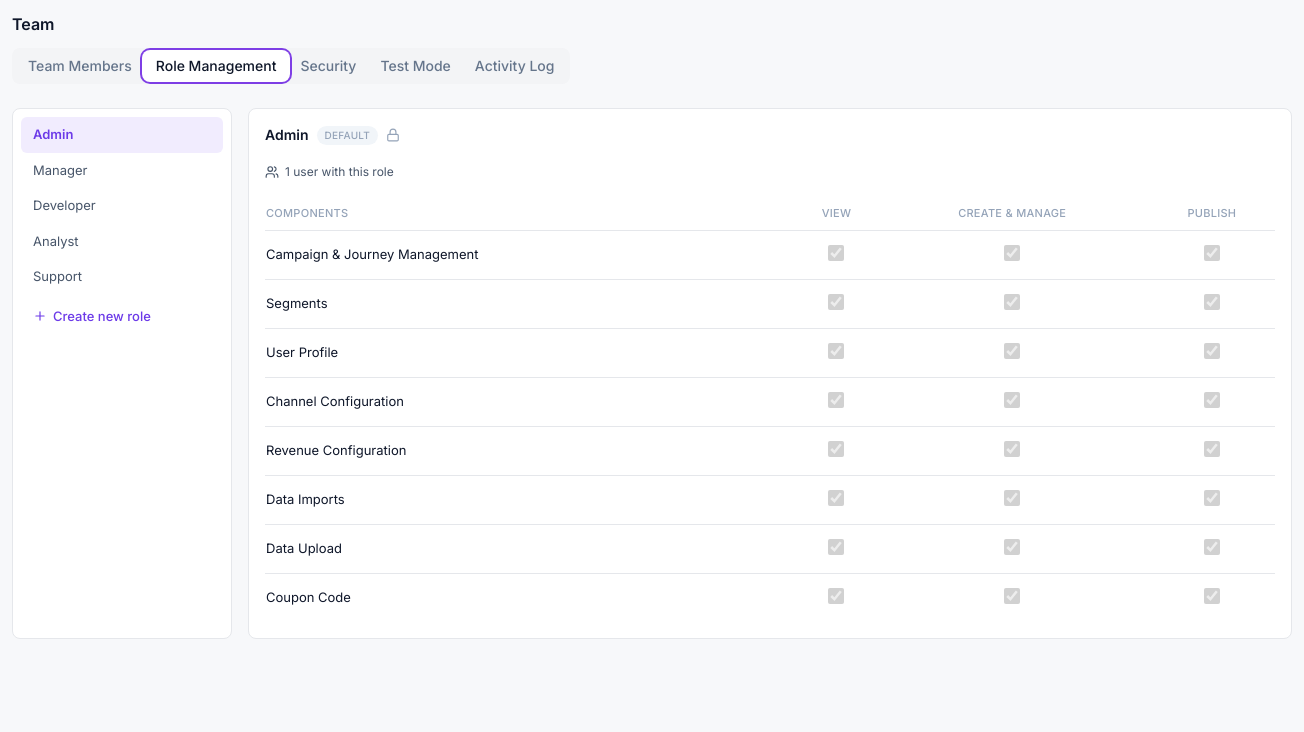
Test: TeamManagementPanel › deleting a custom role reassigns its members to No role
The image size is (1304, 732).
Earlier steps of the test are not shown.
Press the mouse on the tab with test id "team-tab-members" at (80, 66), box [16, 52, 144, 80]
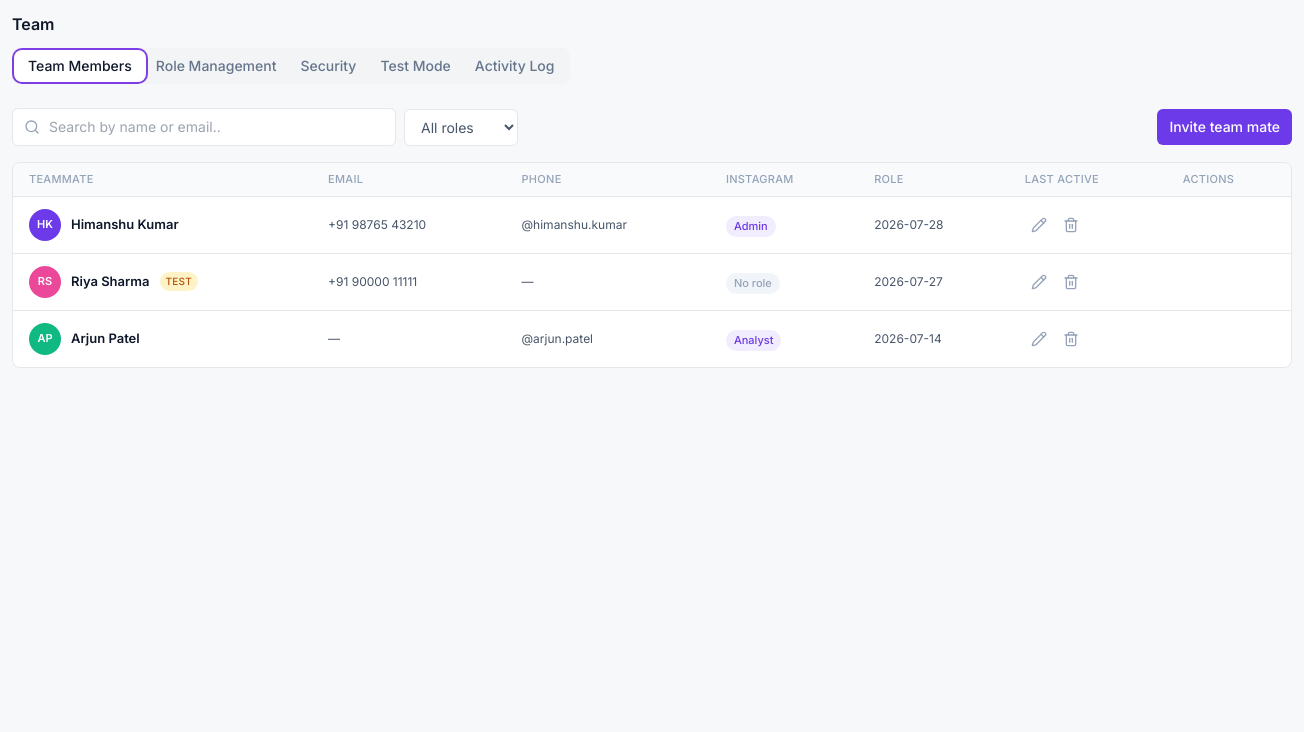
Expected: the text with test id "team-member-role-badge-riya@tspkarix.com" reads "No role", [734, 276, 772, 290]
